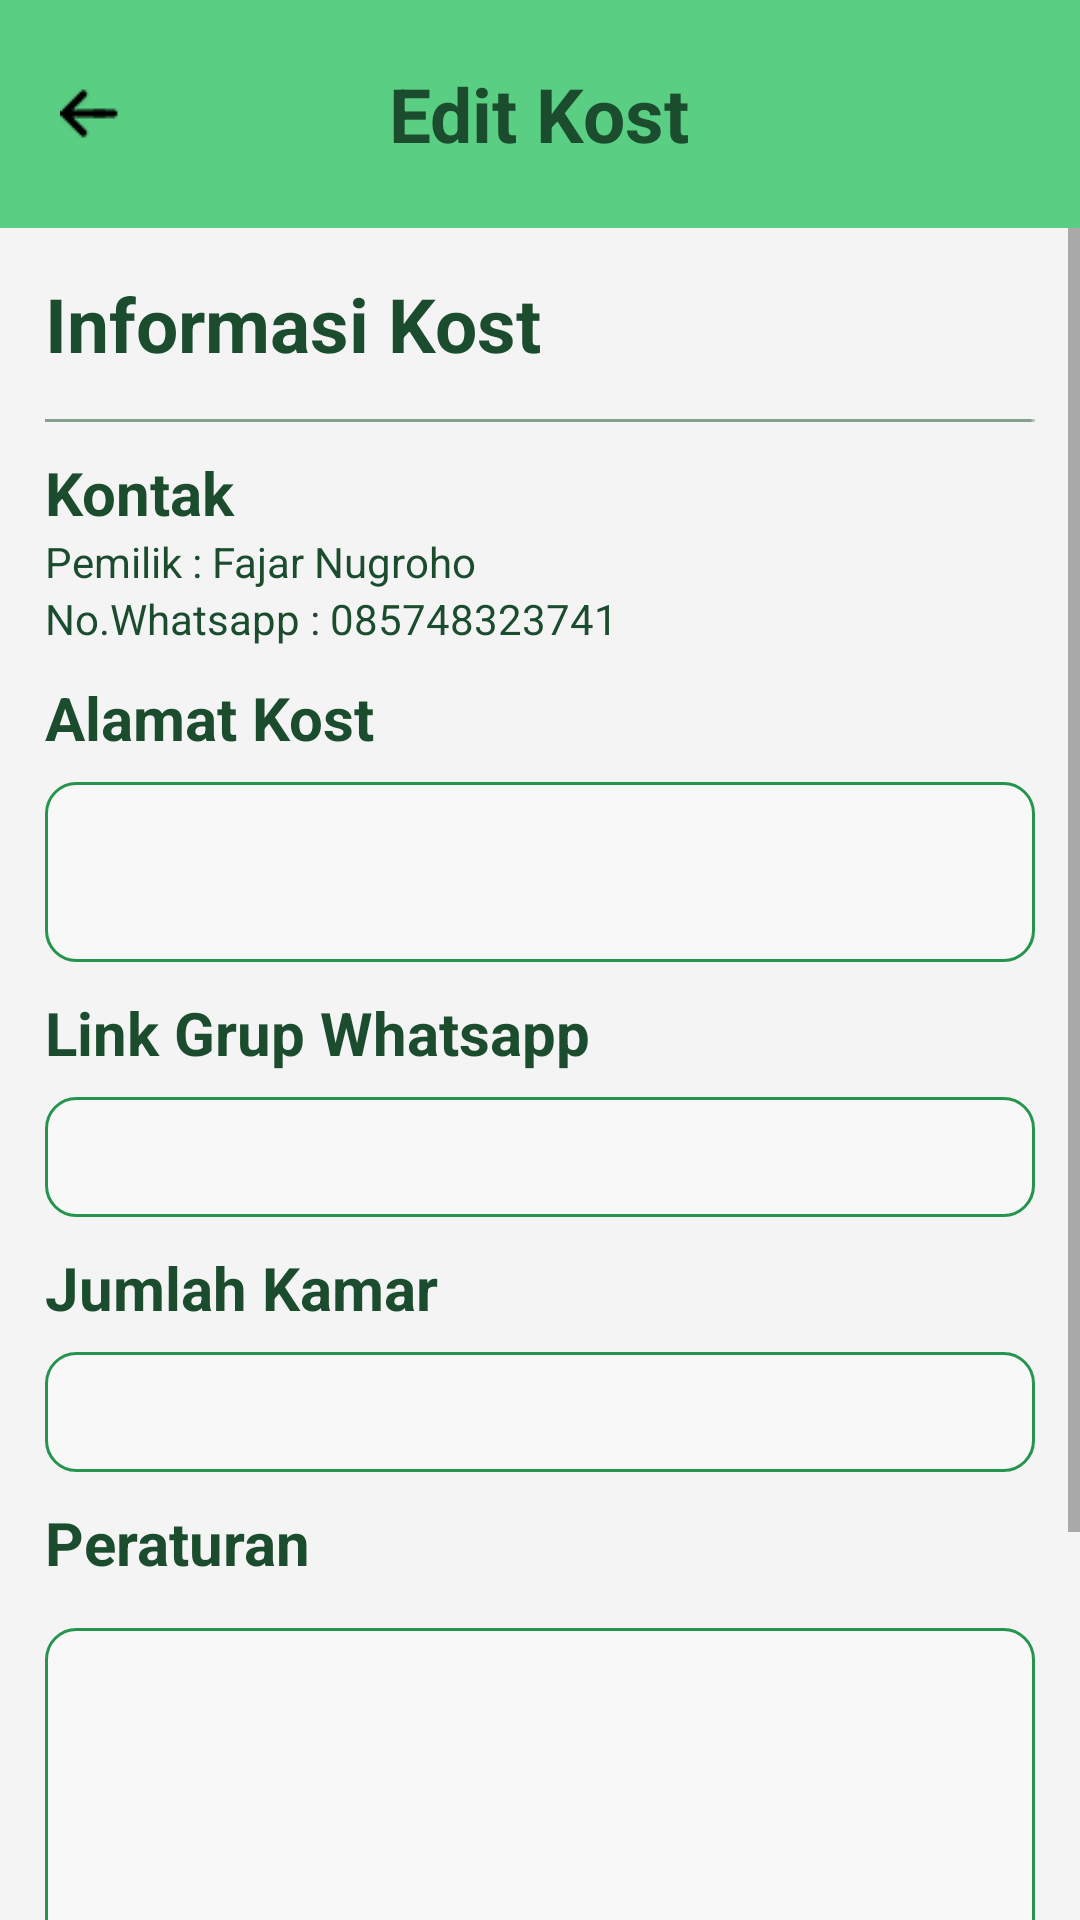

Named icons in this screenshot (1080 × 1920) and their bounding boxes, bbox=(x1, y1, x2, y2):
back: bbox=(60, 89, 118, 138)
